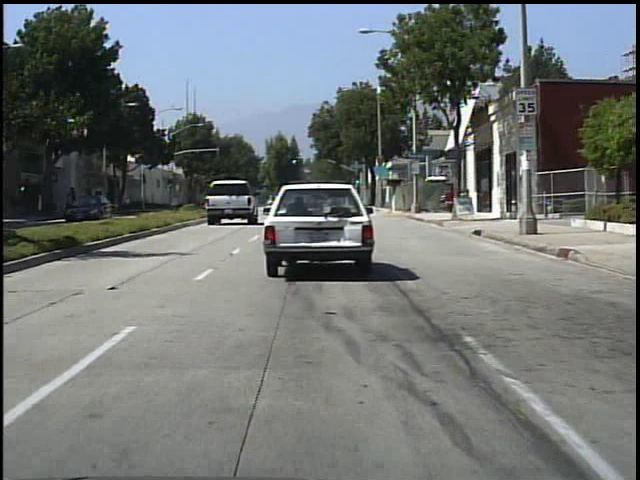person: (66, 197, 77, 219), (125, 195, 134, 215)
